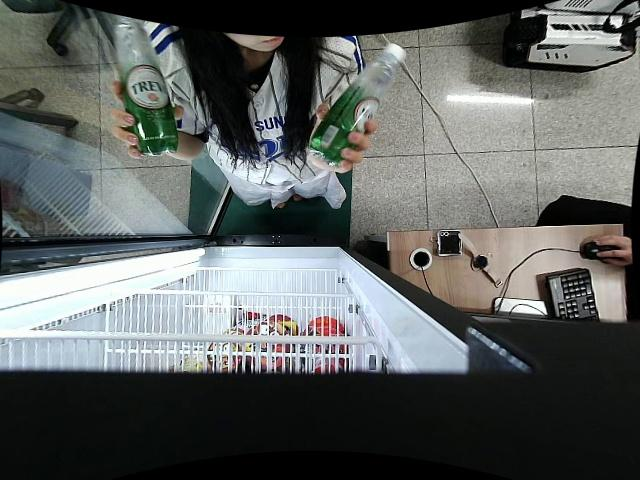00_hand: (109, 79, 185, 159), (314, 106, 377, 174)
18_trevi: (307, 43, 405, 169), (110, 15, 178, 155)
